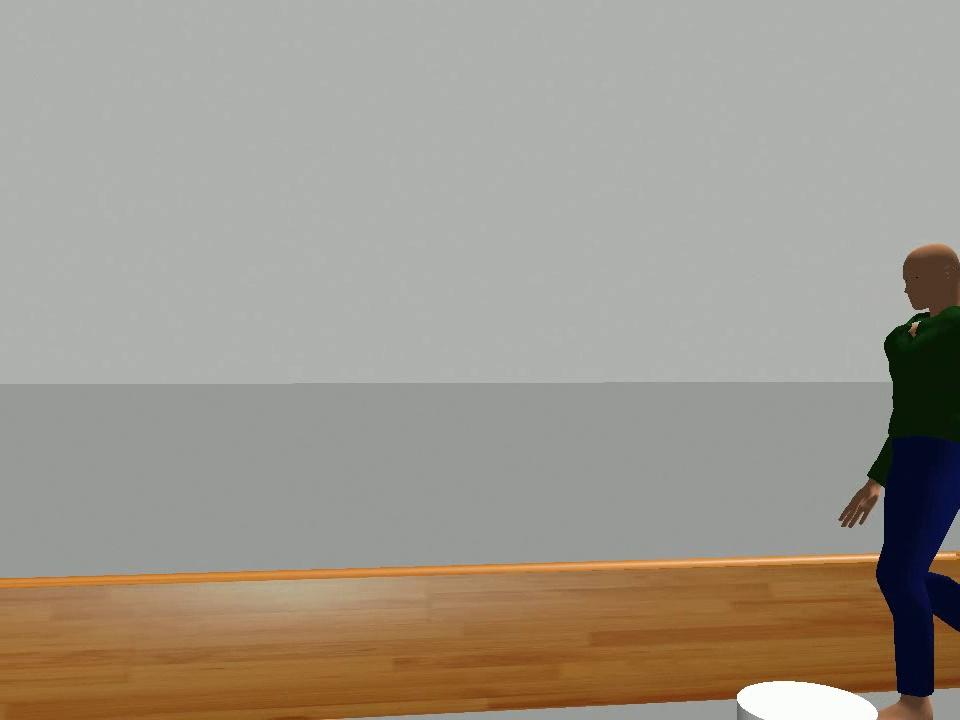person: (836, 240, 960, 720)
